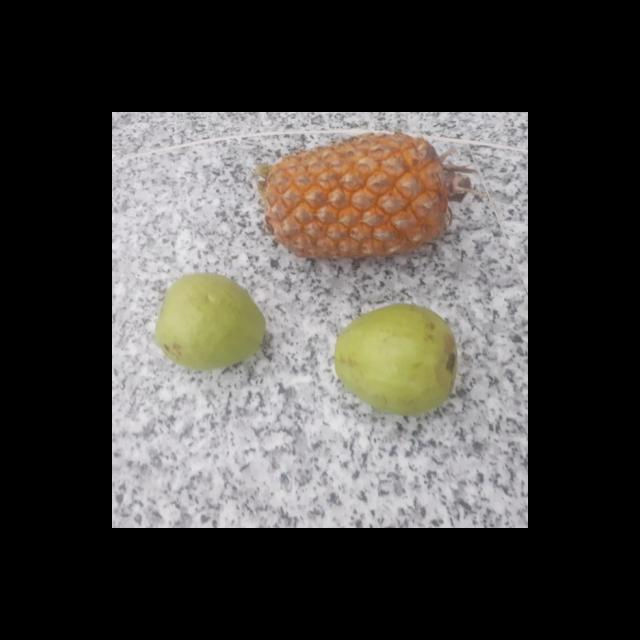guava: (336, 306, 463, 411), (154, 276, 270, 368)
pineapple: (260, 131, 454, 263)
